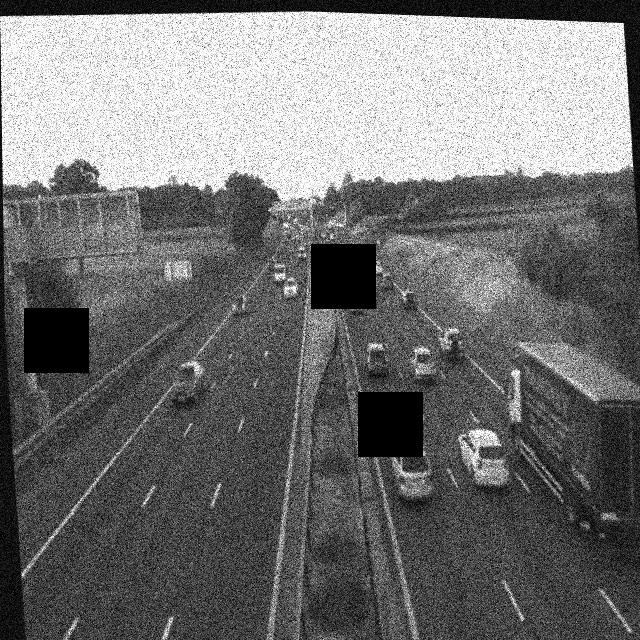car: (459, 427, 511, 489), (388, 432, 434, 502), (169, 360, 207, 408), (408, 345, 438, 383), (364, 341, 391, 377), (438, 329, 466, 363), (349, 289, 364, 315), (233, 292, 249, 316), (401, 288, 418, 310), (283, 278, 298, 299), (273, 260, 286, 281), (382, 274, 396, 291), (363, 277, 376, 295), (357, 264, 369, 281), (372, 260, 383, 276), (337, 258, 348, 273), (266, 255, 275, 268), (298, 248, 307, 260), (299, 242, 307, 254)
truck: (503, 335, 640, 554)
